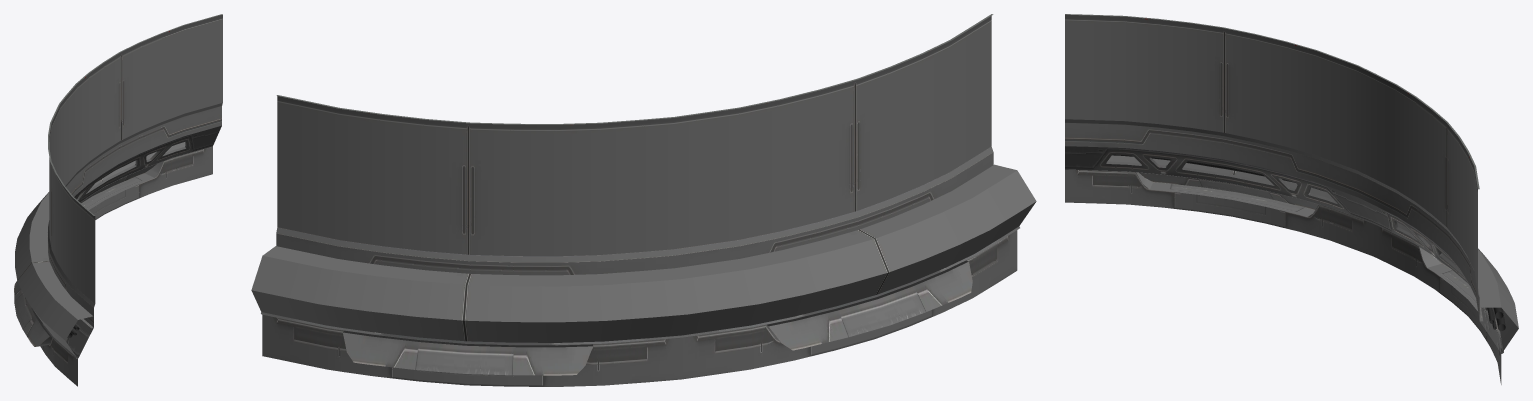
File: TopCables_Corner_Round_Inner.glb
3 views of the same model, side by side, from view 1: azimuth 30°, elevation 25°; view 2: azimuth 150°, elevation 25°; view 3: azimuth 270°, elevation 25° (orthographic). The views are drawn at different scales.
Parts seen in each view (by area): view 1: TopCables_Corner_Round_Inner; view 2: TopCables_Corner_Round_Inner; view 3: TopCables_Corner_Round_Inner.
Boxes of the visible parts, x1,y1,x2,y2 form: TopCables_Corner_Round_Inner: (14, 14, 222, 386); TopCables_Corner_Round_Inner: (251, 14, 1036, 386); TopCables_Corner_Round_Inner: (1065, 14, 1518, 384).
Bounding box in the file's own units: 4.16 × 2 × 4.16.
3 materials, 3 textured.
